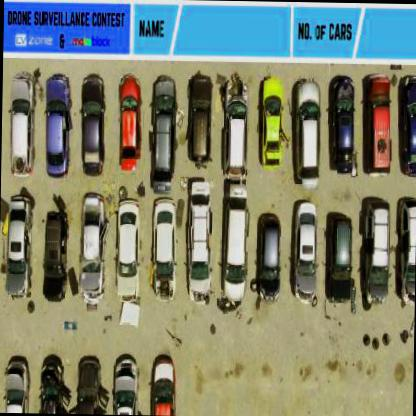car: (292, 76, 322, 188), (362, 75, 394, 176), (150, 73, 178, 187), (80, 192, 108, 306), (6, 72, 36, 178), (188, 181, 214, 303), (44, 72, 74, 176), (290, 200, 317, 306), (327, 214, 356, 312), (328, 76, 356, 176), (224, 186, 248, 300), (224, 75, 250, 180), (80, 75, 106, 177), (6, 194, 32, 296), (150, 198, 176, 300), (367, 201, 391, 308), (116, 198, 140, 300), (186, 73, 212, 166), (118, 74, 142, 174), (42, 210, 68, 302), (256, 214, 282, 304), (396, 195, 416, 306), (260, 78, 284, 169), (148, 355, 178, 414), (399, 74, 415, 180), (112, 354, 140, 414), (3, 356, 32, 412), (78, 358, 106, 413), (41, 358, 68, 412)
